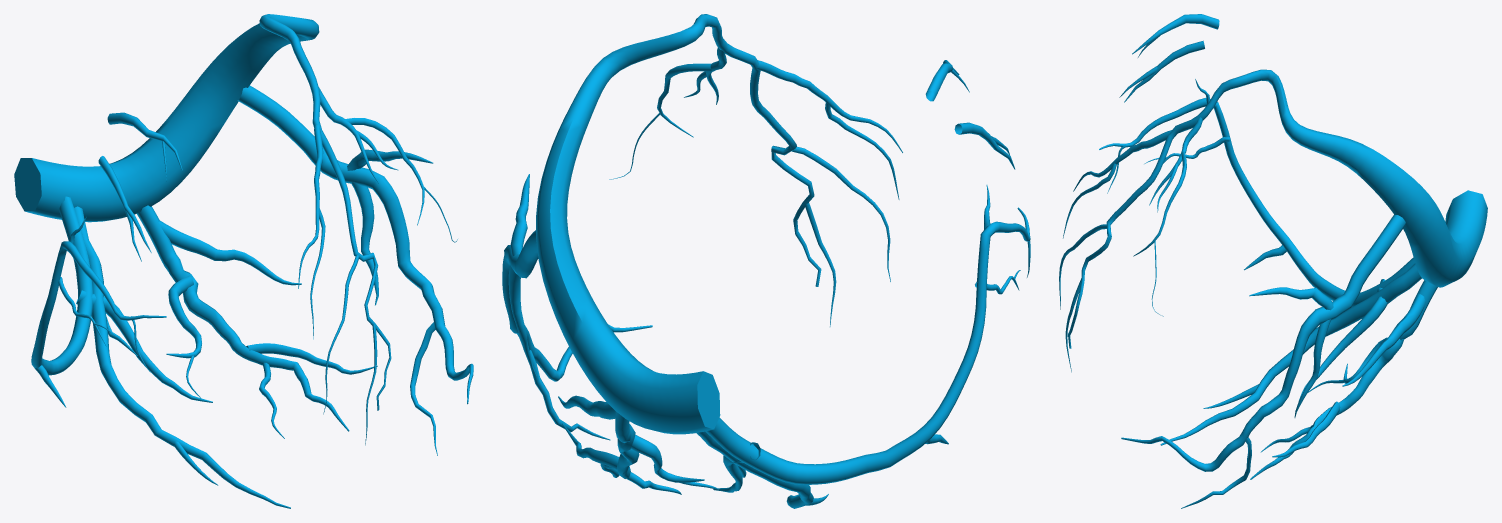
Rendered from Coronary_Veins.fbx.
3 renders of one model, left to right at view 1: azimuth 30°, elevation 25°; view 2: azimuth 150°, elevation 25°; view 3: azimuth 270°, elevation 25°, orthographic. The views are drawn at different scales.
Parts seen in each view (by area): view 1: Coronary_Veins; view 2: Coronary_Veins; view 3: Coronary_Veins.
Part boxes in pixels (x1,y1,x2,y2): Coronary_Veins: (14, 14, 473, 508); Coronary_Veins: (502, 14, 1030, 508); Coronary_Veins: (1059, 14, 1487, 508).
Size of the model in its own units: 7.83 by 8.14 by 8.09.
